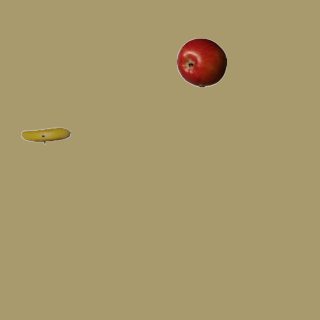Apple Braeburn: (176, 37, 226, 87)
Banana: (20, 110, 70, 160)
